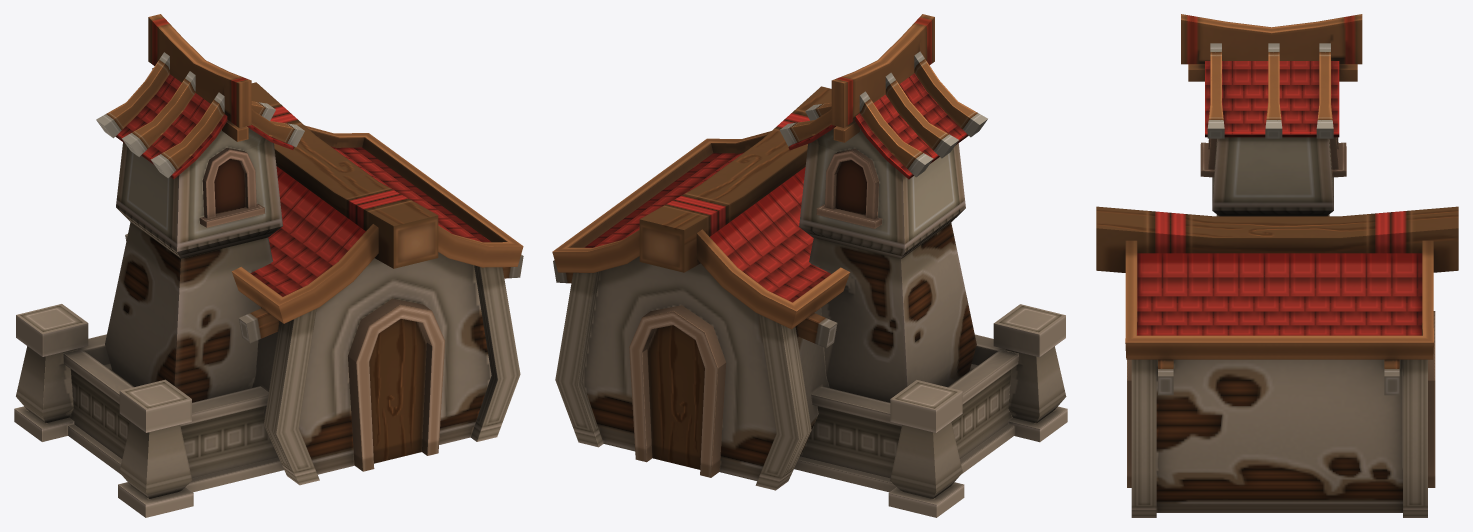
The model's file is Barrack_Level3.FBX.
3 renders of one model, left to right at view 1: azimuth 30°, elevation 25°; view 2: azimuth 150°, elevation 25°; view 3: azimuth 270°, elevation 25°, orthographic.
Parts seen in each view (by area): view 1: Barrack_Level3; view 2: Barrack_Level3; view 3: Barrack_Level3.
Part boxes in pixels (box(x1,y1,x2,y2)): Barrack_Level3: box(14, 14, 523, 517); Barrack_Level3: box(552, 14, 1067, 517); Barrack_Level3: box(1096, 14, 1458, 517).
Size of the model in its own units: 88.15 by 85.59 by 71.94.
